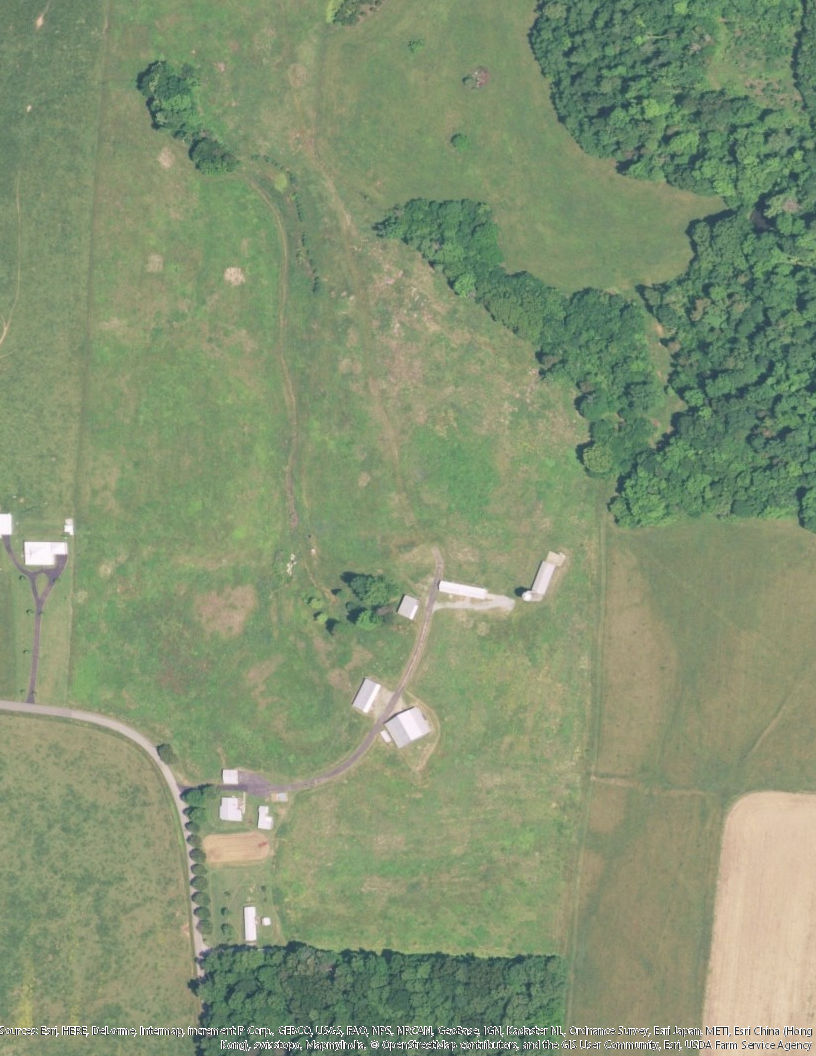cafo: (531, 553, 558, 595), (439, 578, 489, 600)
